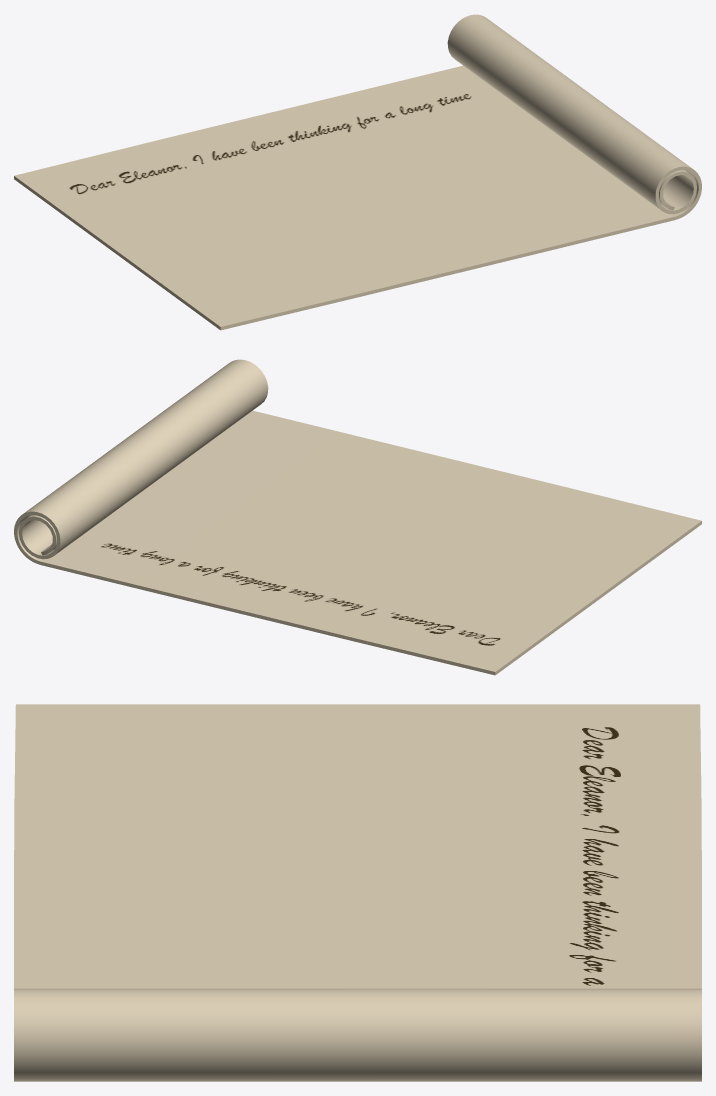
Rendered from F_List.fbx.
3 renders of one model, top to bottom at view 1: azimuth 30°, elevation 25°; view 2: azimuth 150°, elevation 25°; view 3: azimuth 270°, elevation 25°, orthographic. The views are drawn at different scales.
Parts seen in each view (by area): view 1: F_List; view 2: F_List; view 3: F_List.
Boxes of the visible parts, box(x1,y1,x2,y2) form: F_List: box(14, 14, 701, 330); F_List: box(14, 359, 701, 675); F_List: box(14, 704, 701, 1081).
Bounding box in the file's own units: 47.1 × 4.88 × 35.25.
